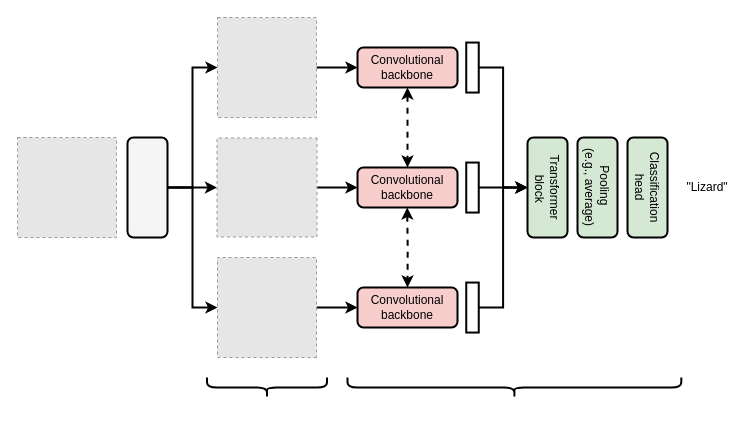
Some shapes in this 755 by 445 pixel diagram are drawn without their labels. Grey dashed boxes stand in for pictures. Here are the shapes that lost their labels. From the top down, the centre of each, then its label:
(x=147, y=187): Data augmentations
(x=267, y=387): Views
(x=514, y=387): Multi-view model
